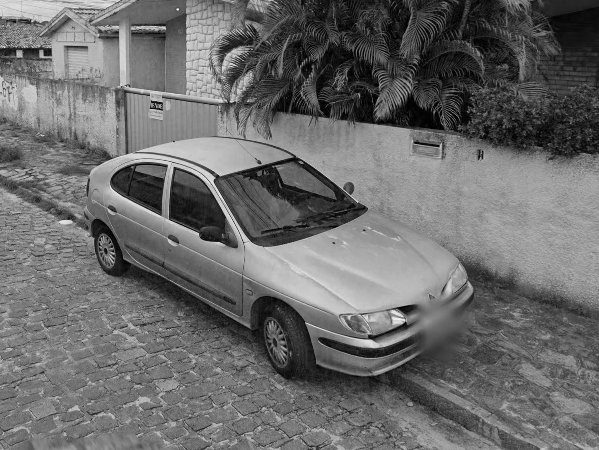car: (82, 128, 476, 382)
